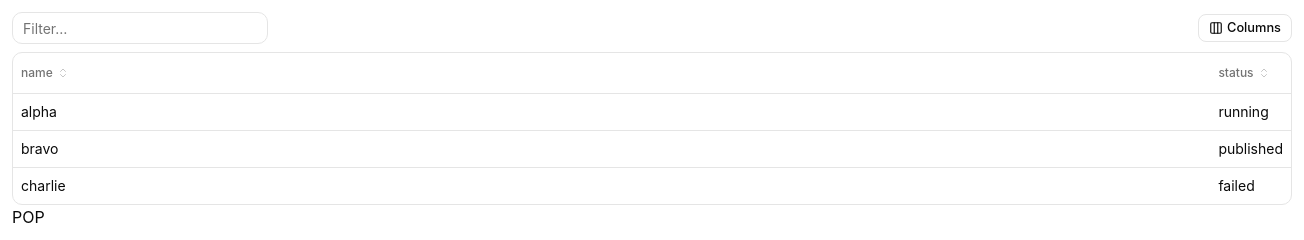
Test: DataTable › namespaces URL state so two tables do not collide
Step 1. Type "x" into the field labelled "Filter…" → (140, 28), box [12, 12, 268, 44]
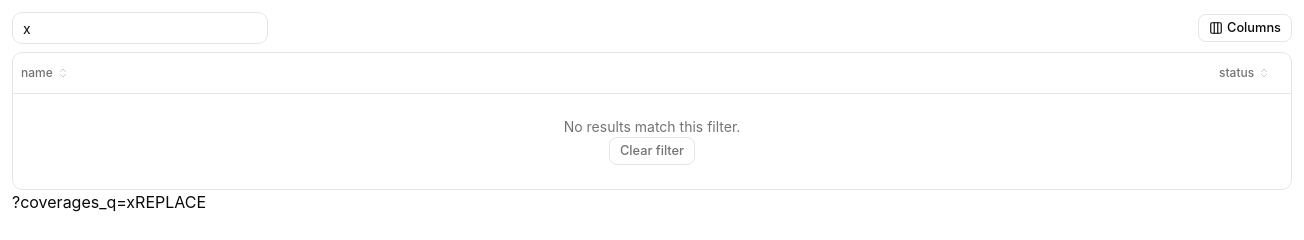
Expected: the text with test id "search" shows "coverages_q=x", [12, 192, 135, 212]
